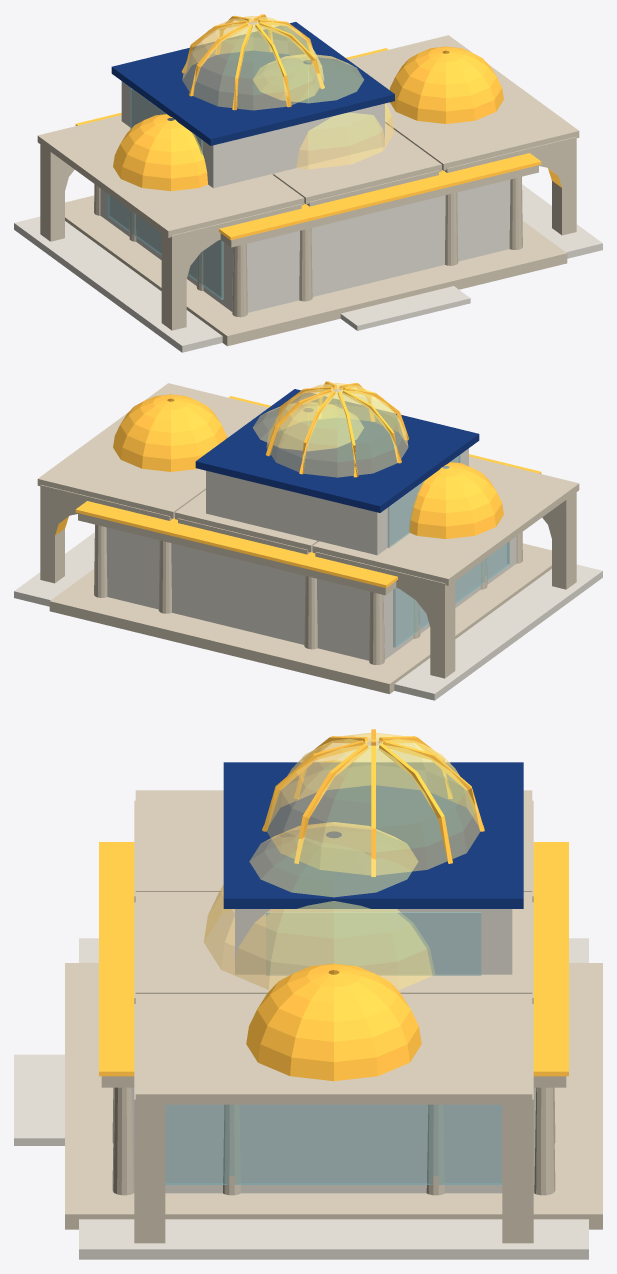
File: villa_and_souk.glb
3 views of the same model, one above another, from view 1: azimuth 30°, elevation 25°; view 2: azimuth 150°, elevation 25°; view 3: azimuth 270°, elevation 25° (orthographic). The views are drawn at different scales.
Parts seen in each view (by area): view 1: PatricianVilla, GrandSoukBazaar; view 2: PatricianVilla, GrandSoukBazaar; view 3: PatricianVilla, GrandSoukBazaar.
Boxes of the visible parts, box(x1,y1,x2,y2) form: PatricianVilla: box(65, 14, 567, 346); GrandSoukBazaar: box(14, 35, 602, 352); PatricianVilla: box(49, 381, 551, 693); GrandSoukBazaar: box(14, 383, 602, 700); PatricianVilla: box(14, 729, 602, 1229); GrandSoukBazaar: box(79, 760, 588, 1259).
Bounding box in the file's own units: 26 × 12.93 × 20.8.
